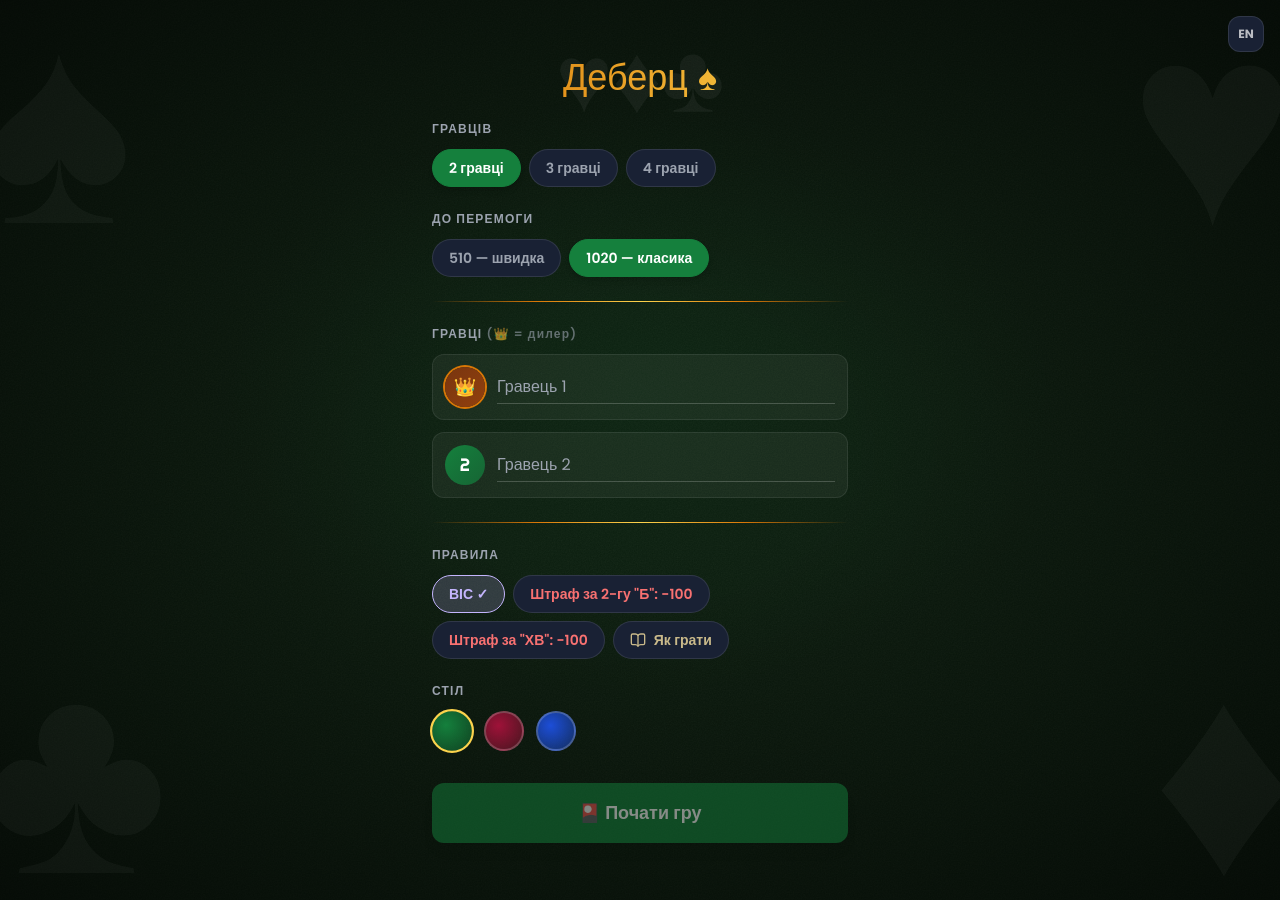
Test: SetupScreen — duplicate player names › unblocks start once the duplicate name is fixed
Type "Іван" into the dropdown with placeholder "Гравець 1".
click(666, 387); type("Іван")  # box [497,370,835,404]
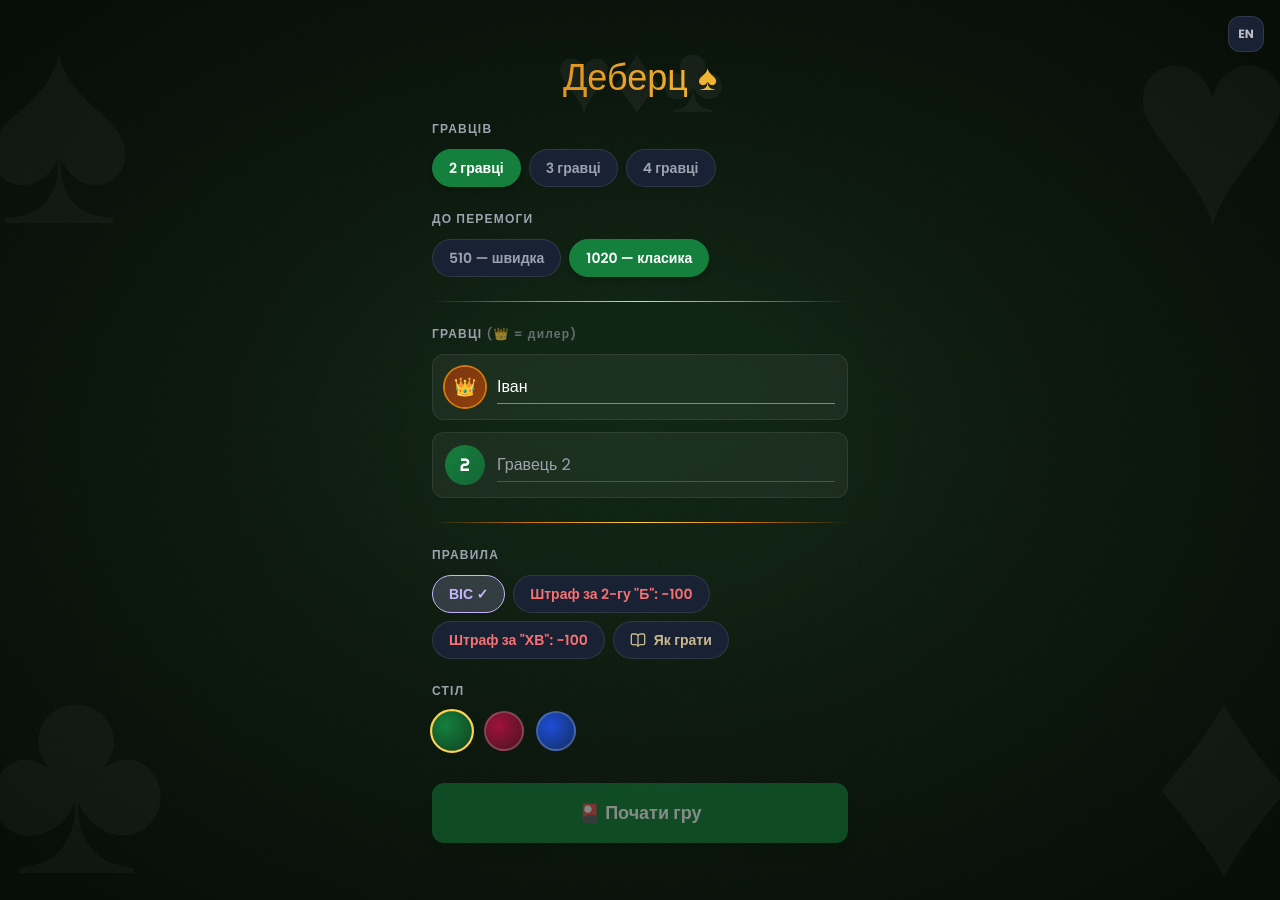
Type "Іван" into the dropdown with placeholder "Гравець 2".
click(666, 465); type("Іван")  # box [497,448,835,482]
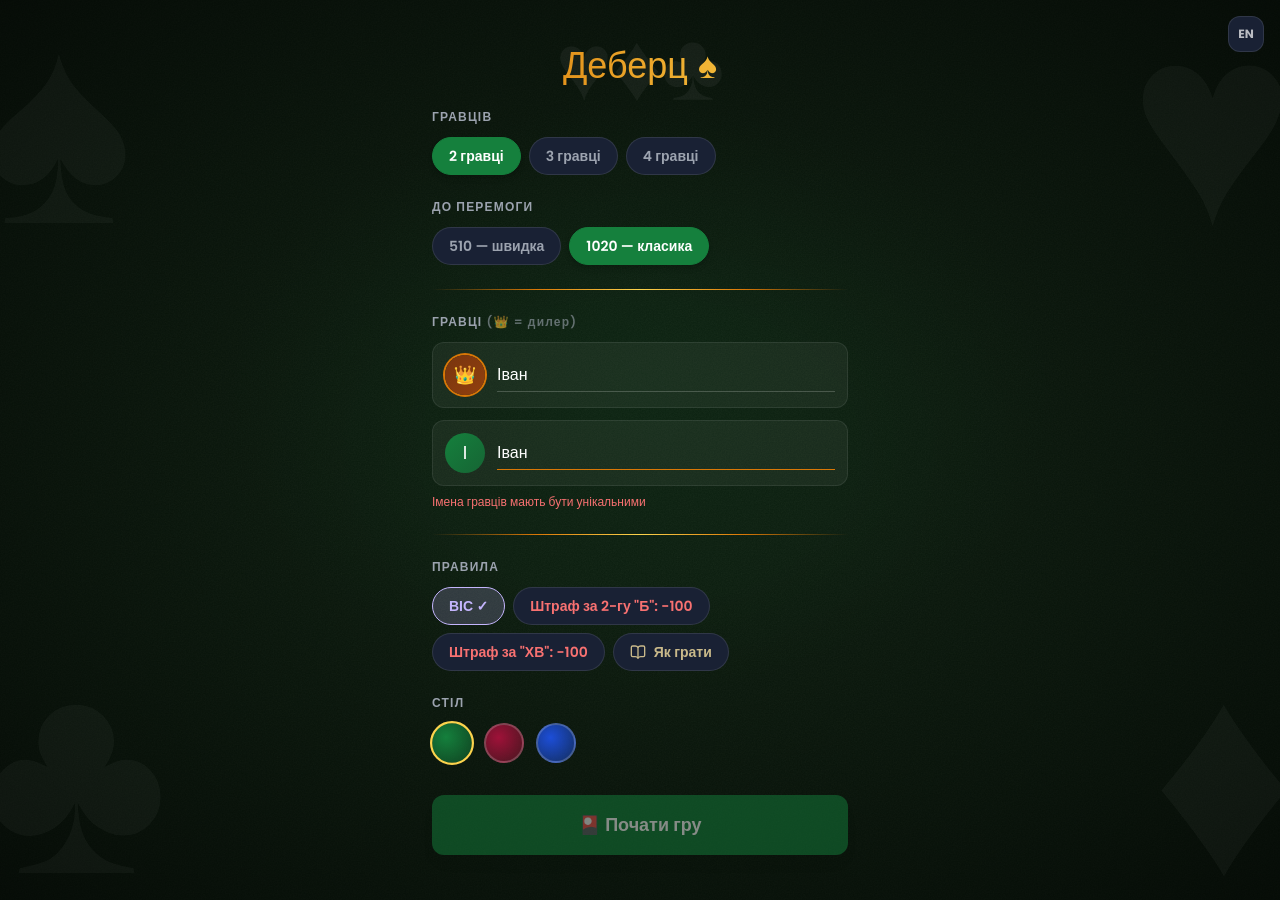
expect the button "🎴 Почати гру" is disabled: met, box [432,795,848,855]
Type "2" into the 2nd dropdown with placeholder "Гравець 2".
click(666, 453); type("2")  # box [497,436,835,470]
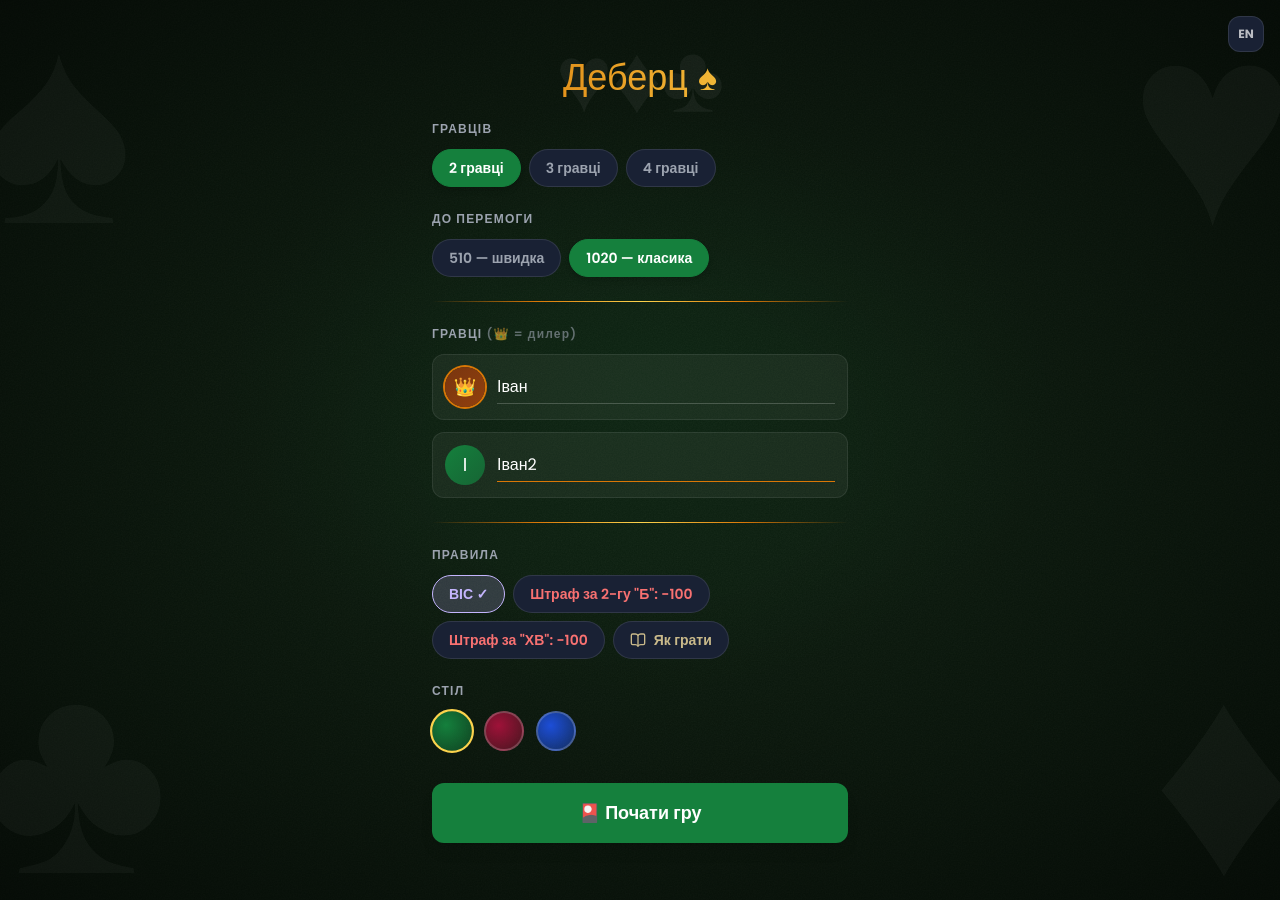
expect the button "🎴 Почати гру" is enabled: met, box [432,783,848,843]
expect the text "Імена гравців мають бути унікальними" is gone: met
